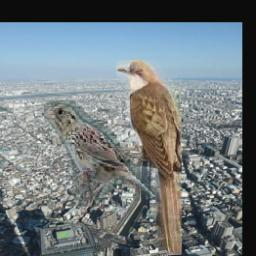Cuckoo: (117, 60, 183, 255)
Sparrow: (45, 100, 159, 207)
